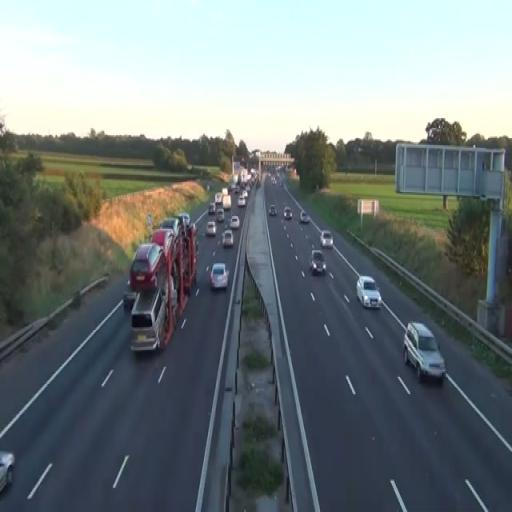Car: (403, 321, 446, 383), (356, 276, 382, 310), (0, 450, 15, 494), (210, 262, 228, 291), (309, 250, 326, 276), (320, 230, 333, 250), (222, 230, 234, 249), (205, 220, 217, 237), (230, 215, 239, 229), (216, 208, 224, 222)
Truck: (127, 213, 199, 354)
